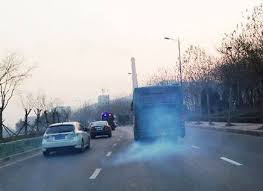smoke: (124, 135, 202, 172)
